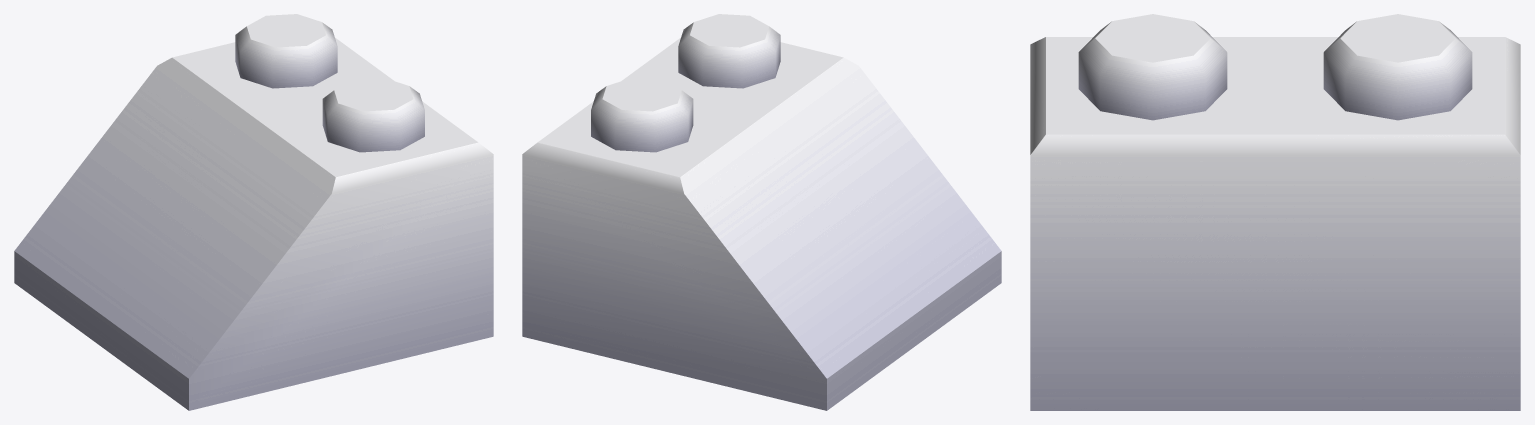
File: round-hq-brick-slope-2x2.glb
The picture shows the model from 3 angles, left to right: view 1: azimuth 30°, elevation 25°; view 2: azimuth 150°, elevation 25°; view 3: azimuth 270°, elevation 25°; orthographic projection. The views are drawn at different scales.
Parts seen in each view (by area): view 1: round-hq-brick-slope-2x2; view 2: round-hq-brick-slope-2x2; view 3: round-hq-brick-slope-2x2.
Boxes of the visible parts, box(x1,y1,x2,y2) form: round-hq-brick-slope-2x2: box(14, 14, 493, 410); round-hq-brick-slope-2x2: box(522, 14, 1001, 410); round-hq-brick-slope-2x2: box(1030, 14, 1520, 410).
Size of the model in its own units: 0.159 by 0.114 by 0.158.
1 material, 1 textured.
